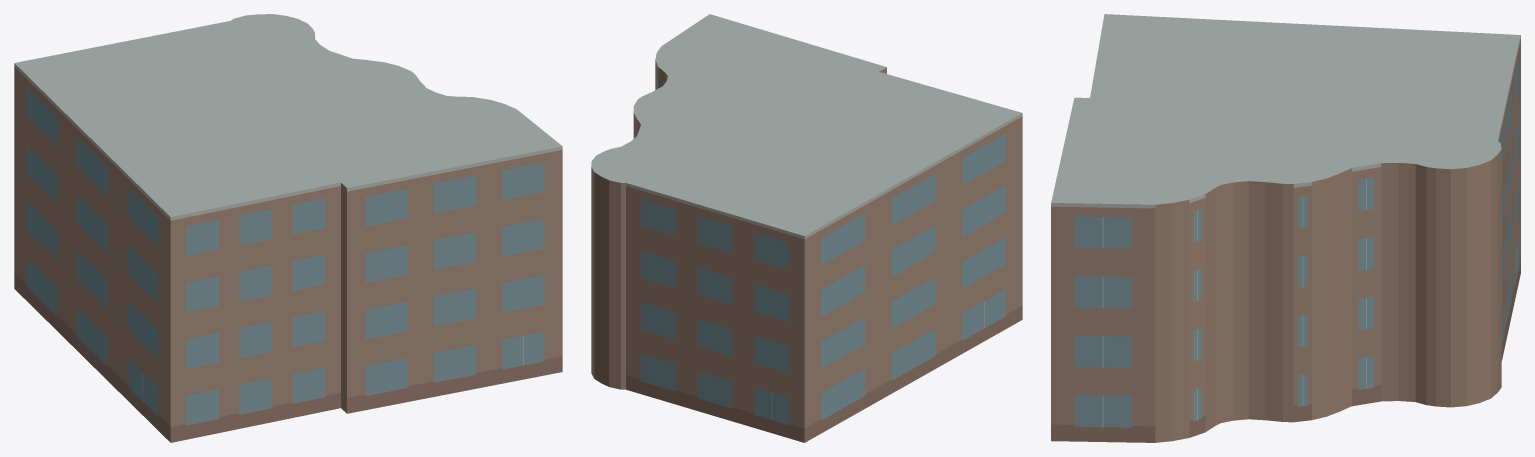
Rendered from survey-upis-32498708.glb.
The picture shows the model from 3 angles, left to right: view 1: azimuth 30°, elevation 25°; view 2: azimuth 150°, elevation 25°; view 3: azimuth 270°, elevation 25°; orthographic projection. The views are drawn at different scales.
Visible parts, largest first — view 1: survey-upis-32498708.tmp; view 2: survey-upis-32498708.tmp; view 3: survey-upis-32498708.tmp.
Boxes of the visible parts, <box> form: survey-upis-32498708.tmp: <box>14,14,562,442</box>; survey-upis-32498708.tmp: <box>591,14,1022,442</box>; survey-upis-32498708.tmp: <box>1051,14,1520,442</box>.
Size of the model in its own units: 26.71 by 15.55 by 27.8.
